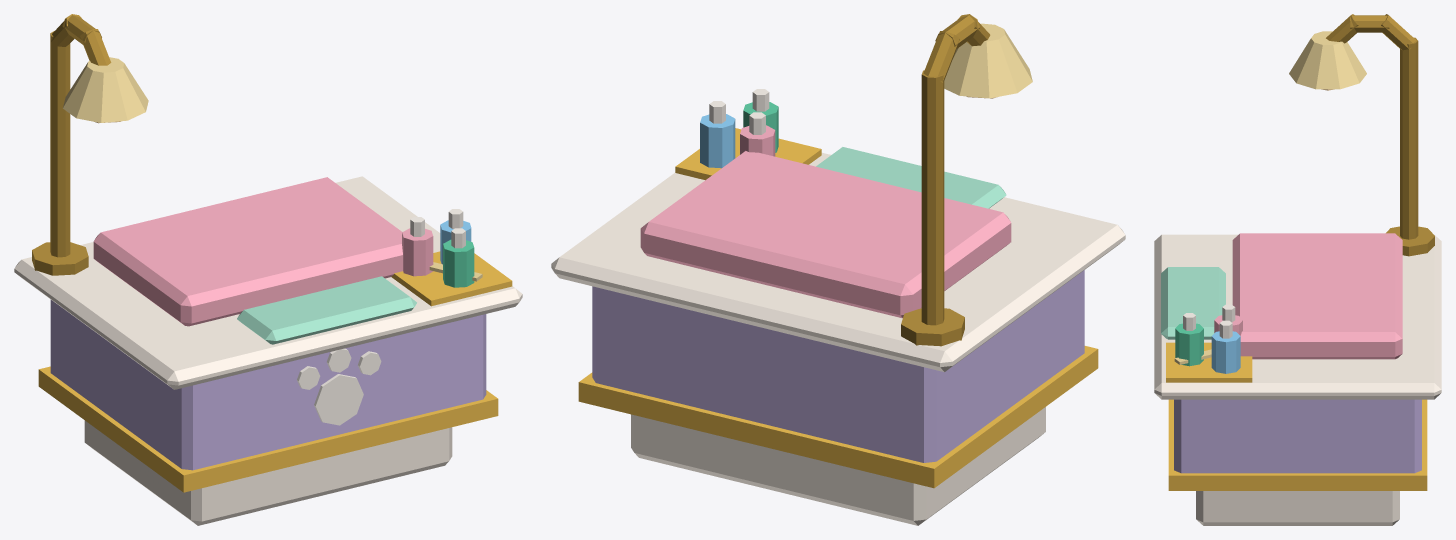
Rendered from CleanACat_Station_Pawdicure.fbx.
3 renders of one model, left to right at view 1: azimuth 30°, elevation 25°; view 2: azimuth 150°, elevation 25°; view 3: azimuth 270°, elevation 25°, orthographic. The views are drawn at different scales.
Visible parts, largest first — view 1: CleanACat_Station_Pawdicure; view 2: CleanACat_Station_Pawdicure; view 3: CleanACat_Station_Pawdicure.
Boxes of the visible parts, x1=… form: CleanACat_Station_Pawdicure: x1=14, y1=14, x2=522, y2=525; CleanACat_Station_Pawdicure: x1=551, y1=14, x2=1125, y2=525; CleanACat_Station_Pawdicure: x1=1154, y1=14, x2=1441, y2=525.
Size of the model in its own units: 2.84 by 3.33 by 2.2.
Materials: 1 (1 with a texture image).
